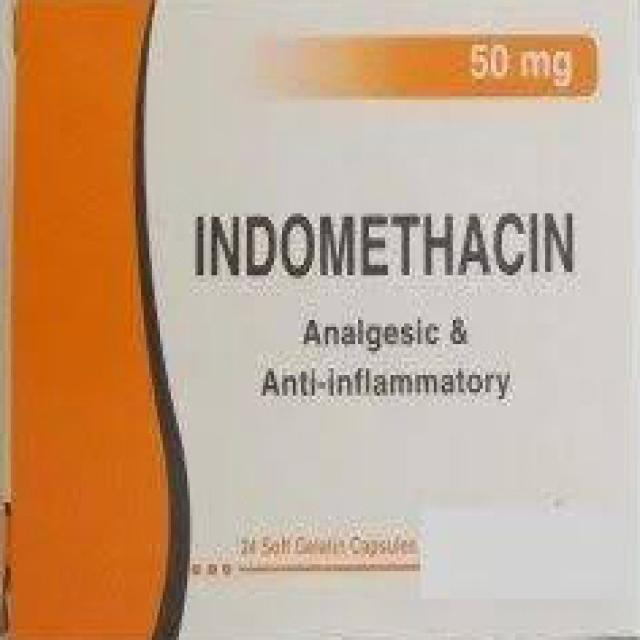drug-name: (191, 202, 579, 288)
